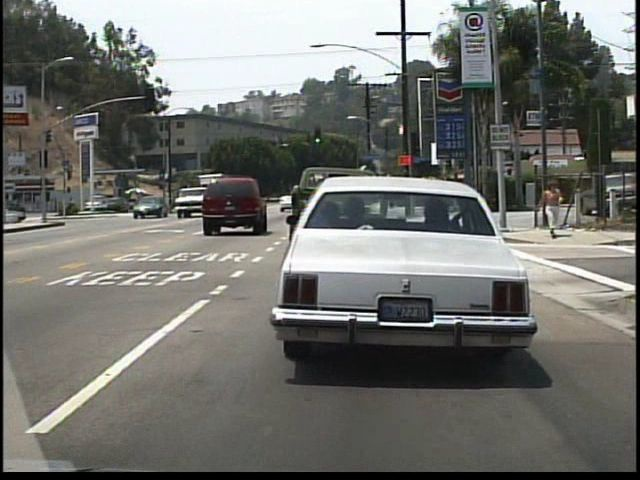person: (542, 177, 563, 239)
